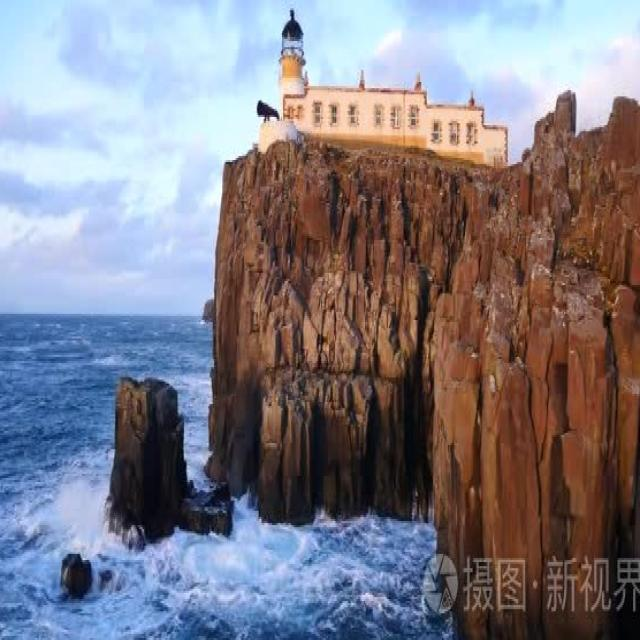reef: (91, 361, 232, 560)
